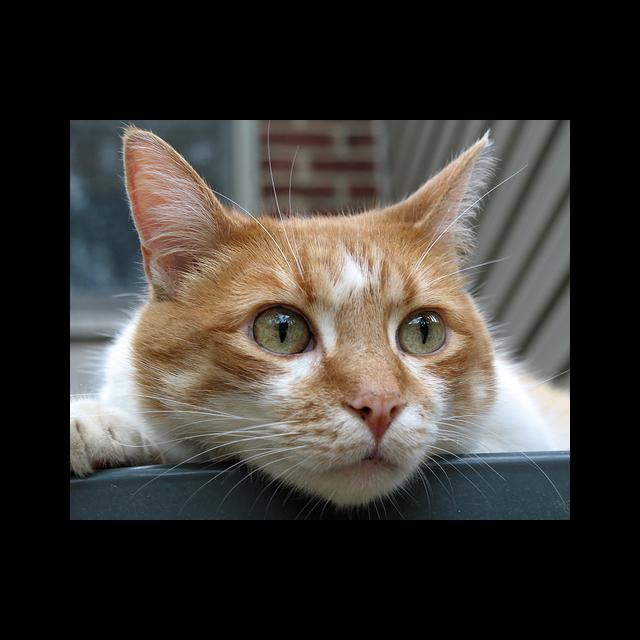animals: (134, 131, 488, 438)
